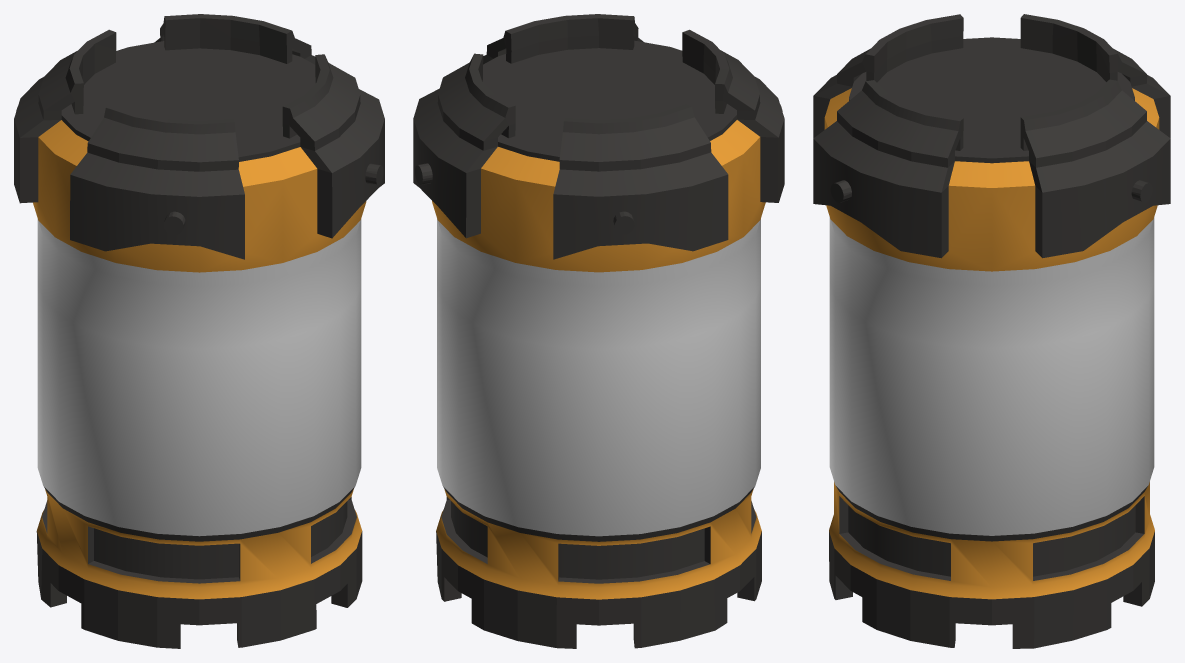
Rendered from barrel.fbx.
3 views of the same model, side by side, from view 1: azimuth 30°, elevation 25°; view 2: azimuth 150°, elevation 25°; view 3: azimuth 270°, elevation 25° (orthographic).
Parts seen in each view (by area): view 1: Cylinder; view 2: Cylinder; view 3: Cylinder.
Boxes of the visible parts, x1,y1,x2,y2 form: Cylinder: (14,14,384,648); Cylinder: (413,14,784,648); Cylinder: (813,14,1170,648).
Size of the model in its own units: 194 by 308 by 194.
